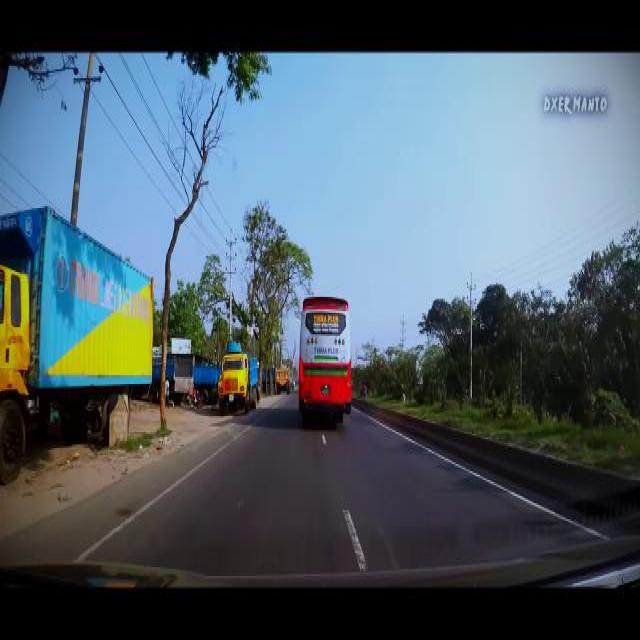bus: (297, 294, 351, 414)
motorbike: (185, 387, 201, 406)
truck: (0, 202, 154, 483), (216, 348, 258, 409), (274, 365, 290, 392)
